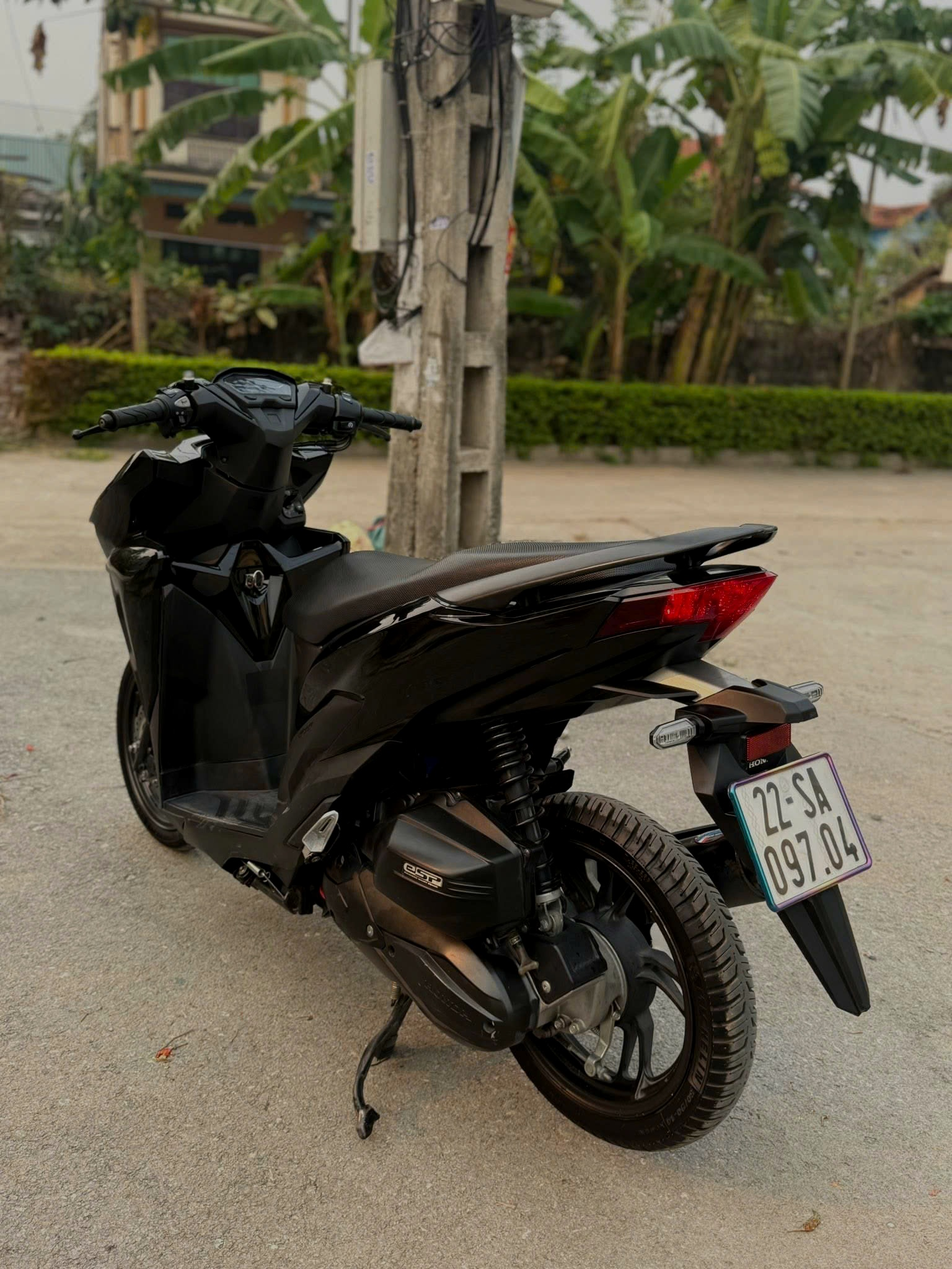Bien-so: (725, 748, 882, 917)
